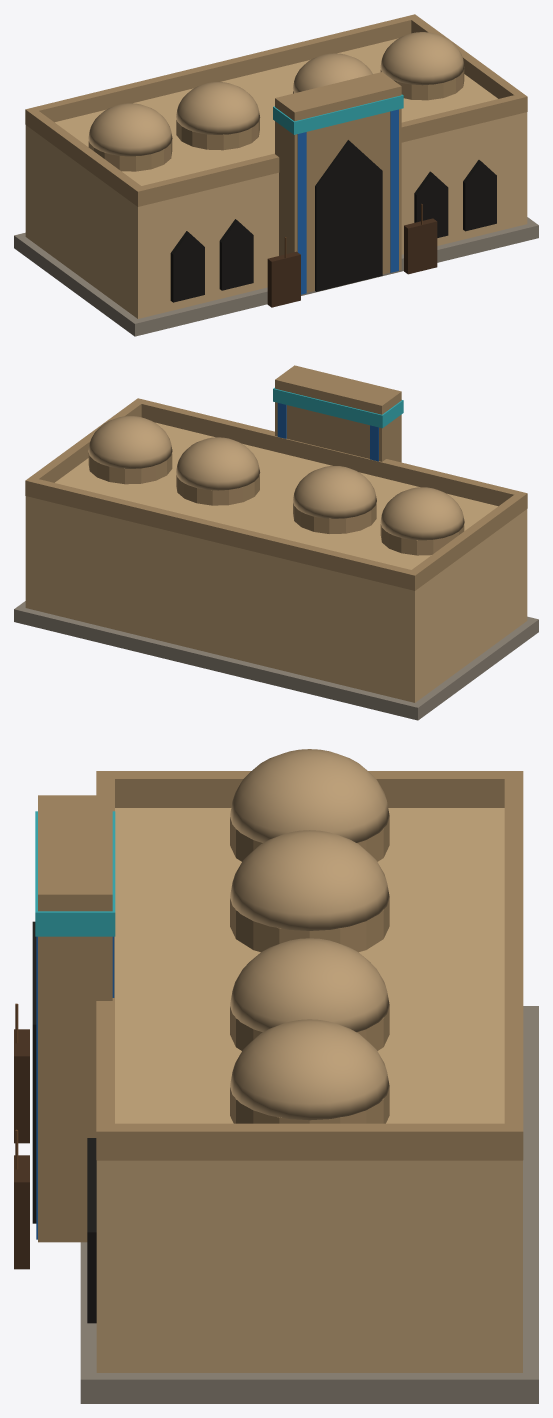
The model's file is barracks.glb.
3 renders of one model, top to bottom at view 1: azimuth 30°, elevation 25°; view 2: azimuth 150°, elevation 25°; view 3: azimuth 270°, elevation 25°, orthographic. The views are drawn at different scales.
Visible parts, largest first — view 1: Barracks; view 2: Barracks; view 3: Barracks.
Boxes of the visible parts, box(x1,y1,x2,y2) form: Barracks: box(14, 14, 538, 336); Barracks: box(14, 365, 538, 720); Barracks: box(14, 749, 538, 1403).
Bounding box in the file's own units: 16.6 × 7.7 × 9.85.
